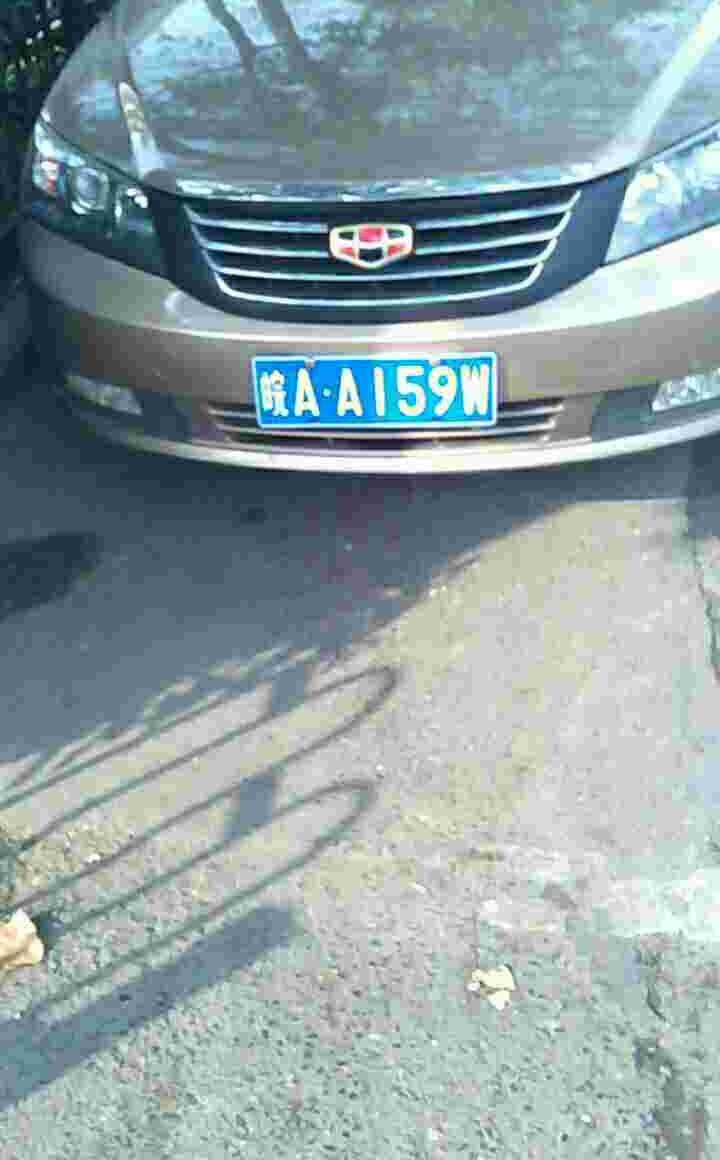license_plate: (256, 352, 498, 430)
